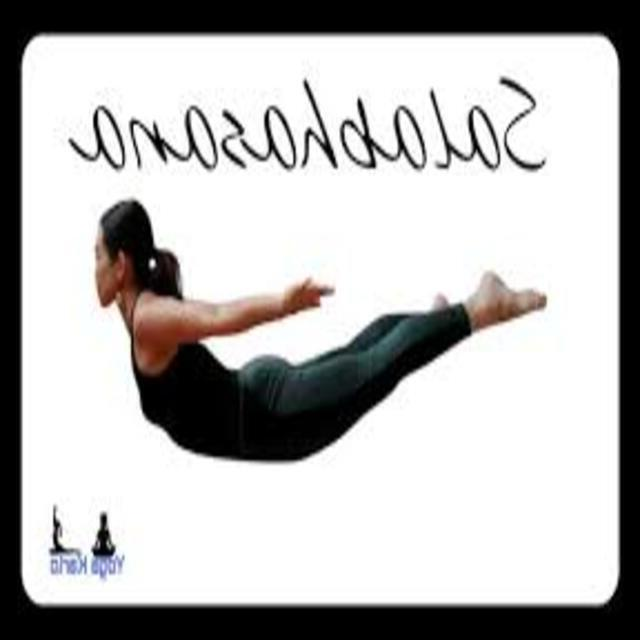Locust_Pose: (91, 200, 552, 464)
